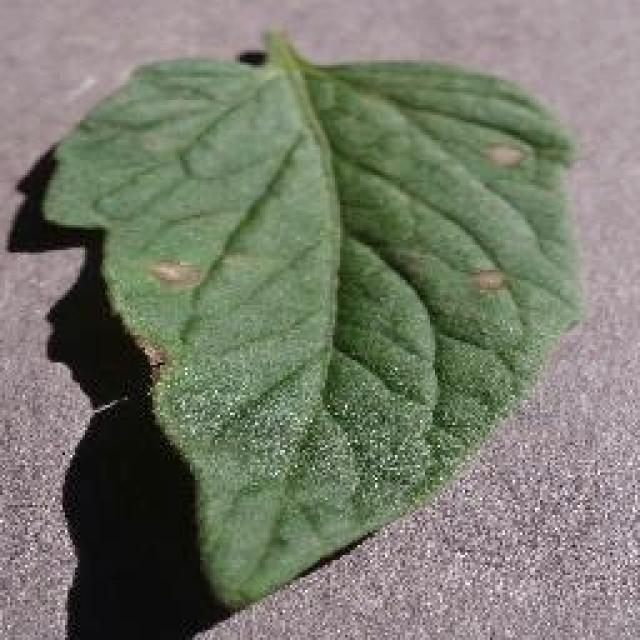Tomato Early blight leaf: (40, 57, 578, 613)
